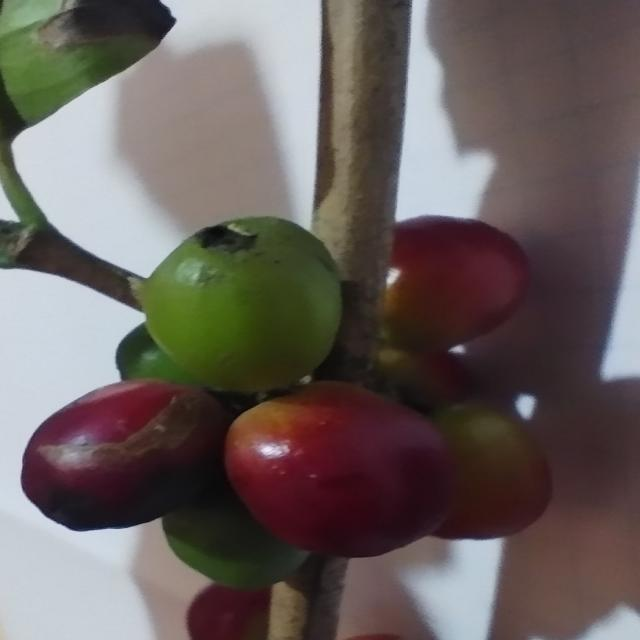Infectado: (129, 216, 343, 396)
Sano: (222, 382, 456, 559)
